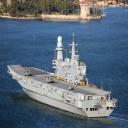Portanaves: (7, 32, 119, 120)
